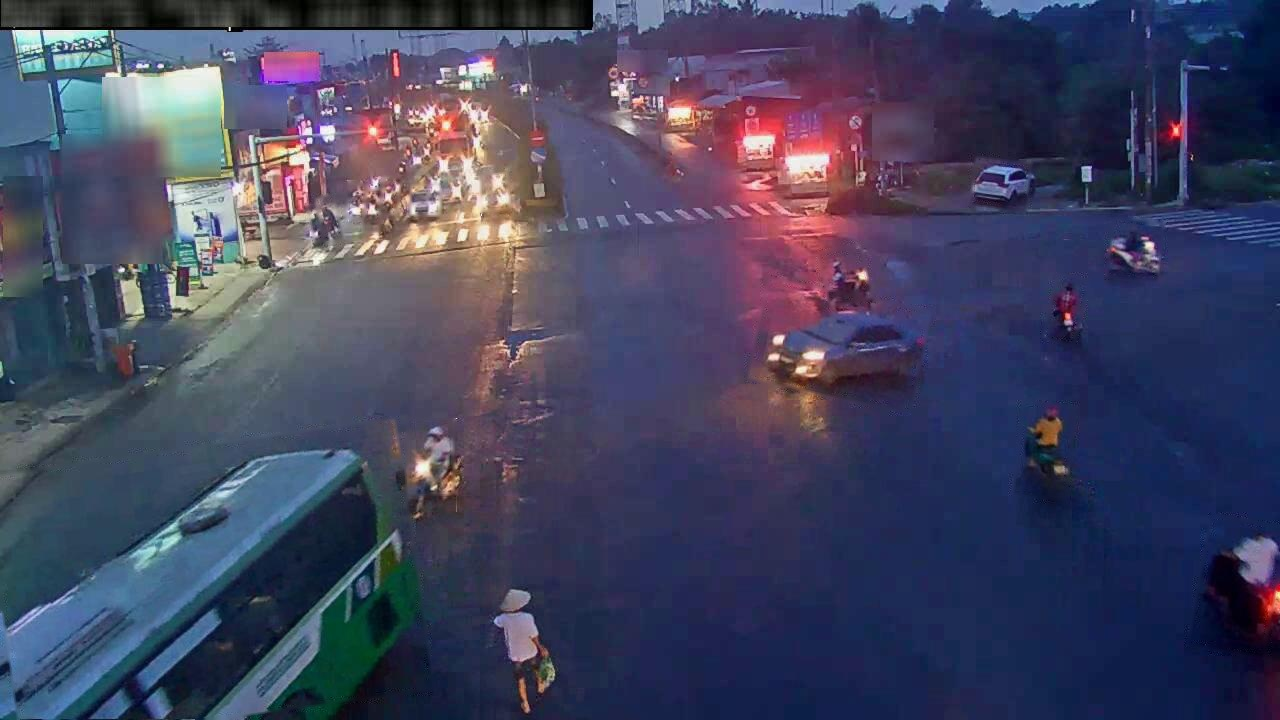Car: (766, 311, 924, 384), (1204, 533, 1279, 642), (972, 165, 1035, 203), (477, 174, 511, 217), (409, 190, 440, 221), (433, 175, 464, 206)
Cyclist: (397, 427, 462, 519)
Motorcycle: (1106, 236, 1161, 275)
Motorcyclist: (1024, 406, 1069, 477), (825, 259, 870, 308), (1050, 282, 1082, 341), (319, 203, 340, 239), (348, 183, 367, 220), (308, 210, 326, 247), (363, 190, 382, 225), (382, 179, 399, 215)
Pedestrian: (493, 588, 548, 714)
Truck: (0, 449, 419, 719)
